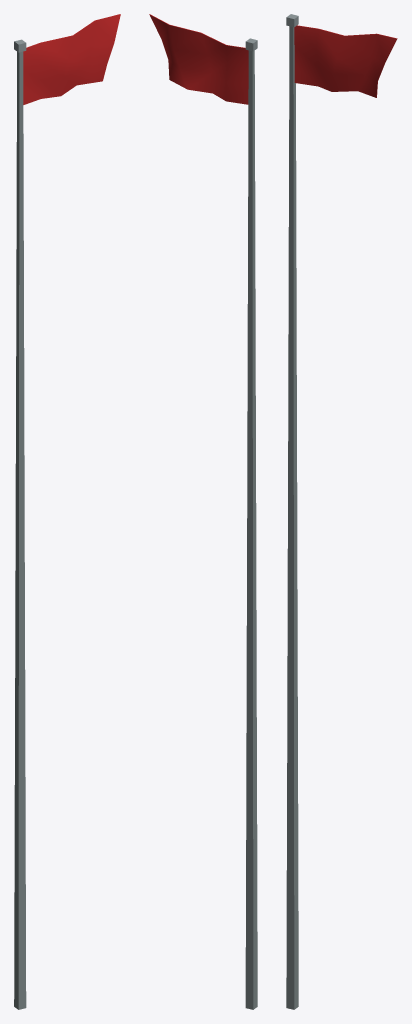
The model's file is Flag.FBX.
3 views of the same model, side by side, from view 1: azimuth 30°, elevation 25°; view 2: azimuth 150°, elevation 25°; view 3: azimuth 330°, elevation 25° (orthographic). The views are drawn at different scales.
Visible parts, largest first — view 1: Flag; view 2: Flag; view 3: Flag.
Boxes of the visible parts, <box> form: Flag: <box>14,14,120,1009</box>; Flag: <box>149,14,257,1009</box>; Flag: <box>286,14,397,1009</box>.
Size of the model in its own units: 137 by 1208 by 15.08.
